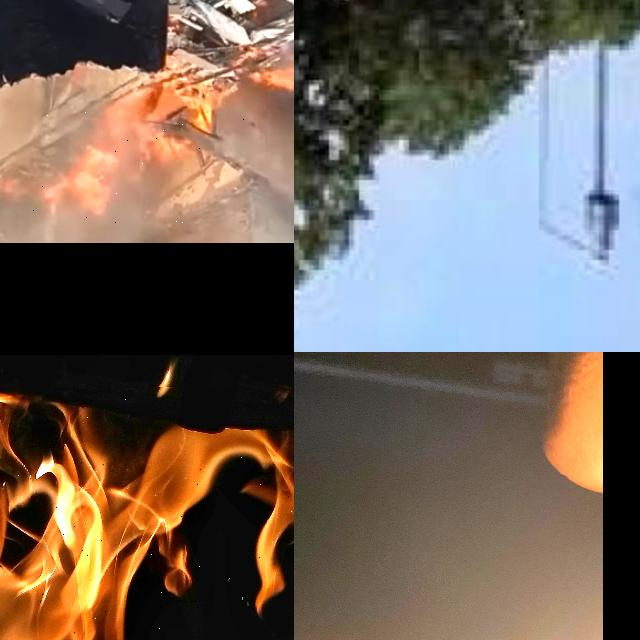fire: (0, 393, 294, 640), (0, 107, 248, 228), (252, 44, 294, 90)
